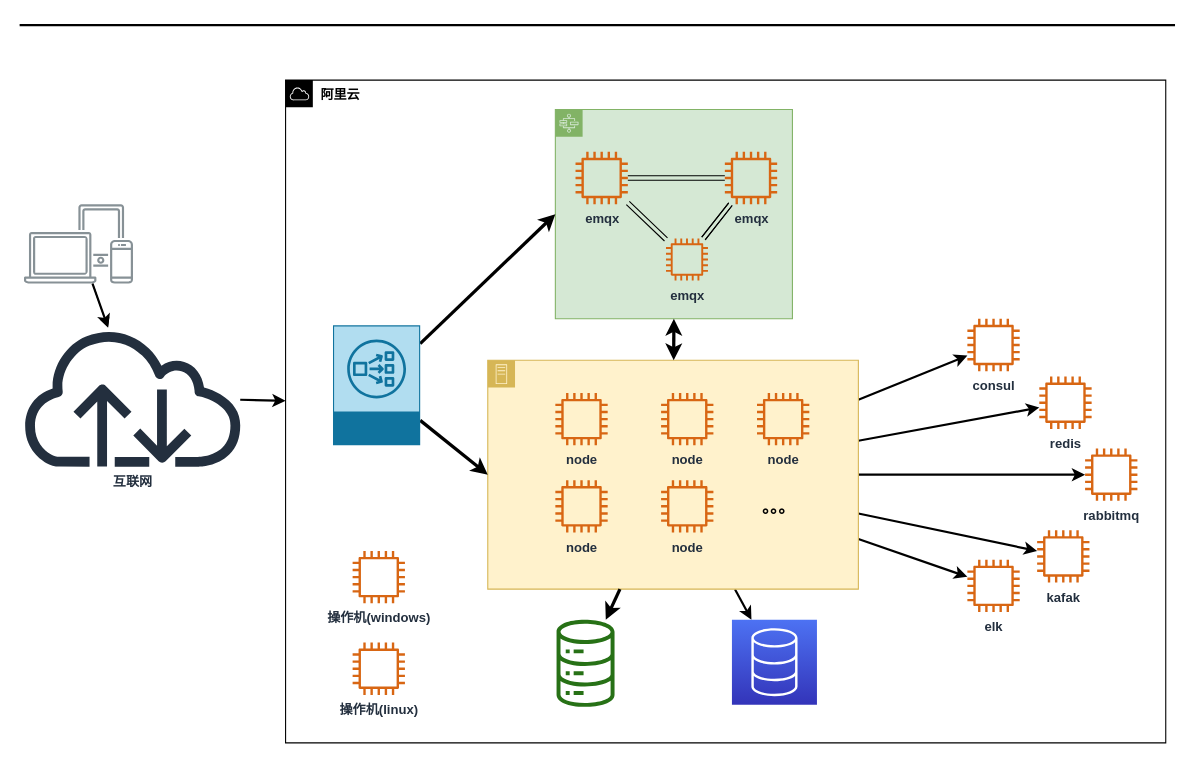
Image size: 1203x780. Some labels were removed from this diagram. The shapes that lost their labels are listed below. From the top down, each one's box as (x1, y1, x2, y2) in pixels, then its label:
(554, 108, 792, 319): mqtt服务器集群
(23, 204, 132, 283): PC，APP，设备
(332, 324, 420, 445): 负载均衡
(487, 359, 858, 589): swarm集群（微服务）
(555, 619, 615, 706): 镜像仓库
(731, 619, 817, 705): 阿里云mongodb
